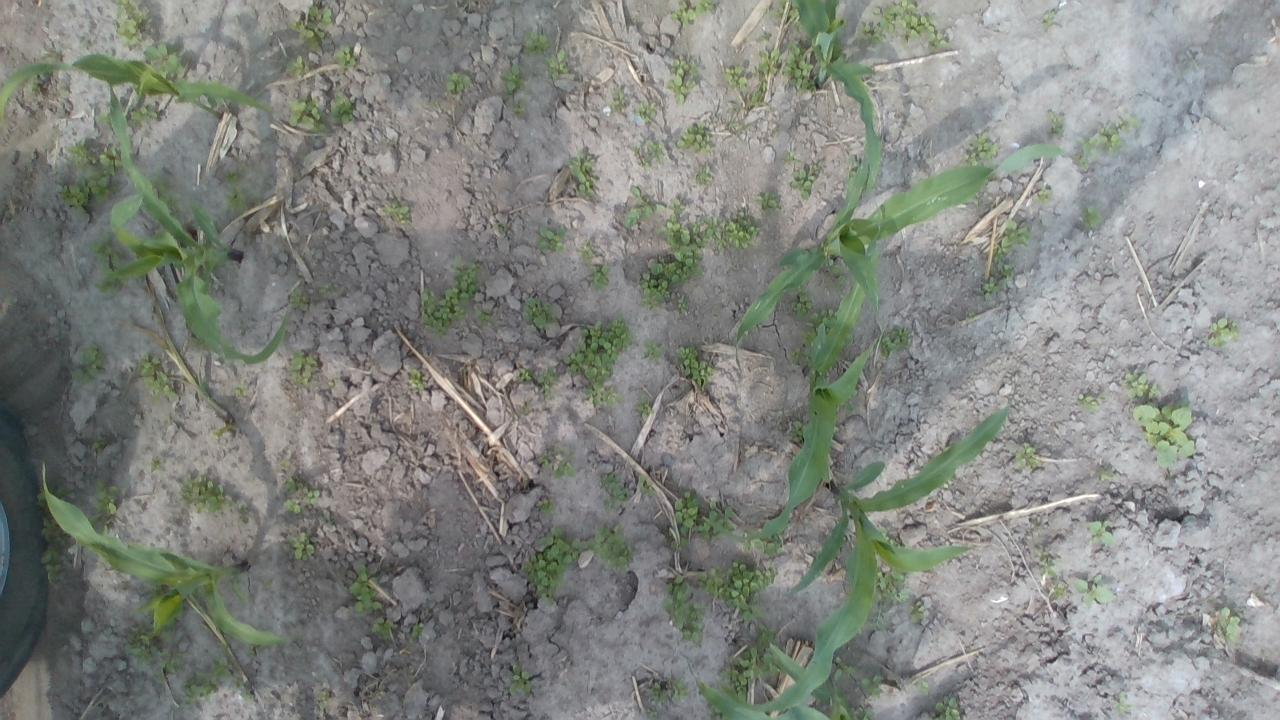Maize: (728, 404, 1006, 715), (734, 140, 1072, 344), (105, 84, 292, 366), (36, 465, 297, 650), (742, 213, 883, 536), (792, 0, 882, 211), (0, 47, 275, 111), (686, 643, 852, 720)
Weeds: (418, 253, 483, 338), (559, 316, 632, 390), (1130, 401, 1199, 470), (699, 558, 775, 620), (522, 526, 581, 602), (1075, 114, 1140, 173), (872, 0, 946, 50), (659, 215, 720, 275), (641, 255, 703, 312), (732, 626, 786, 680), (663, 574, 705, 642), (178, 474, 248, 514), (58, 173, 118, 215), (582, 528, 635, 574), (140, 39, 190, 86), (284, 92, 330, 138), (138, 350, 178, 400), (693, 500, 738, 543), (780, 37, 816, 90), (623, 185, 668, 227), (674, 341, 714, 386), (112, 0, 150, 47), (348, 564, 383, 614), (994, 219, 1032, 263), (670, 493, 699, 549), (665, 56, 698, 105), (720, 210, 760, 250), (565, 150, 599, 197), (146, 174, 183, 216), (669, 0, 716, 32), (125, 626, 162, 666), (1074, 572, 1114, 608), (960, 132, 1000, 168), (90, 233, 126, 271), (221, 168, 250, 215), (537, 447, 577, 481), (72, 344, 107, 382), (182, 669, 220, 704), (876, 566, 911, 604), (285, 17, 325, 50), (740, 526, 786, 554), (1120, 369, 1162, 399), (518, 296, 554, 329), (290, 348, 322, 385), (676, 122, 713, 154), (212, 654, 244, 690), (1214, 603, 1242, 644), (41, 514, 72, 550), (790, 330, 819, 368), (583, 381, 621, 409), (534, 223, 568, 254), (600, 472, 628, 509), (1086, 516, 1118, 548), (718, 668, 748, 702), (1206, 318, 1240, 348), (880, 325, 910, 358), (93, 476, 120, 512), (95, 144, 125, 176), (789, 284, 816, 318), (522, 30, 554, 58), (330, 94, 357, 127), (854, 19, 887, 46), (288, 532, 317, 562), (332, 43, 360, 74), (65, 138, 92, 170), (789, 168, 816, 200), (545, 48, 570, 82), (41, 550, 66, 584), (830, 654, 860, 682), (826, 257, 847, 296), (776, 0, 804, 29), (36, 485, 68, 510), (381, 202, 414, 226), (157, 651, 183, 681), (508, 664, 532, 696), (1014, 441, 1042, 468), (288, 286, 314, 315), (500, 64, 526, 93), (930, 695, 960, 720), (633, 140, 667, 162), (95, 277, 130, 298), (808, 308, 836, 334), (754, 48, 780, 74), (307, 1, 334, 26), (128, 103, 159, 124), (1080, 206, 1106, 231), (588, 262, 612, 289), (723, 63, 748, 88), (536, 366, 557, 395), (372, 616, 397, 640), (286, 52, 309, 78), (445, 70, 471, 92), (1037, 551, 1058, 577), (846, 154, 864, 184), (407, 366, 428, 391), (860, 673, 881, 698), (25, 71, 45, 97), (671, 678, 691, 704), (981, 276, 1001, 302), (754, 190, 780, 210), (750, 80, 771, 104), (1048, 110, 1066, 138), (608, 88, 628, 113), (634, 100, 656, 121), (96, 108, 115, 132), (638, 474, 657, 498), (644, 340, 664, 362), (1051, 580, 1071, 601), (1113, 694, 1133, 715), (694, 164, 713, 186), (1076, 392, 1098, 411), (650, 682, 667, 706), (284, 496, 304, 515), (788, 422, 806, 441), (536, 497, 556, 514), (706, 704, 727, 720), (304, 487, 322, 505), (580, 239, 596, 259), (910, 601, 926, 621), (1034, 186, 1052, 203), (1038, 7, 1054, 26), (635, 400, 653, 416), (783, 152, 803, 166), (284, 477, 302, 492), (1000, 262, 1015, 280), (876, 528, 894, 543), (511, 97, 526, 114), (476, 304, 490, 322), (856, 706, 874, 720), (318, 689, 330, 710), (670, 198, 684, 214), (230, 383, 247, 396), (517, 367, 533, 380), (916, 679, 929, 695), (412, 622, 424, 638), (1100, 468, 1114, 481), (92, 437, 106, 448), (197, 382, 209, 393), (846, 402, 856, 412), (151, 461, 161, 470)
